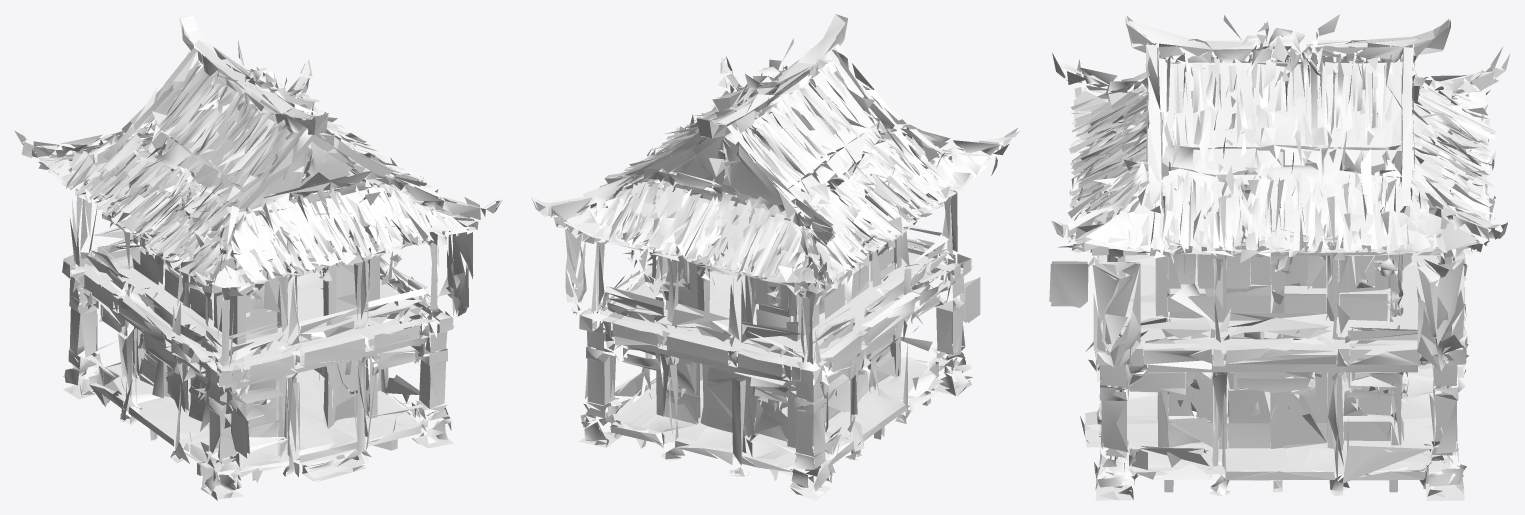
The model's file is house_bal_b_lod2.glb.
3 renders of one model, left to right at view 1: azimuth 30°, elevation 25°; view 2: azimuth 150°, elevation 25°; view 3: azimuth 270°, elevation 25°, orthographic. The views are drawn at different scales.
Parts seen in each view (by area): view 1: house_bal_b; view 2: house_bal_b; view 3: house_bal_b.
Boxes of the visible parts, x1,y1,x2,y2 form: house_bal_b: (14, 15, 501, 500); house_bal_b: (531, 14, 1019, 500); house_bal_b: (1049, 14, 1510, 500).
Size of the model in its own units: 7.78 by 8.99 by 8.81.
1 material, 1 textured.
